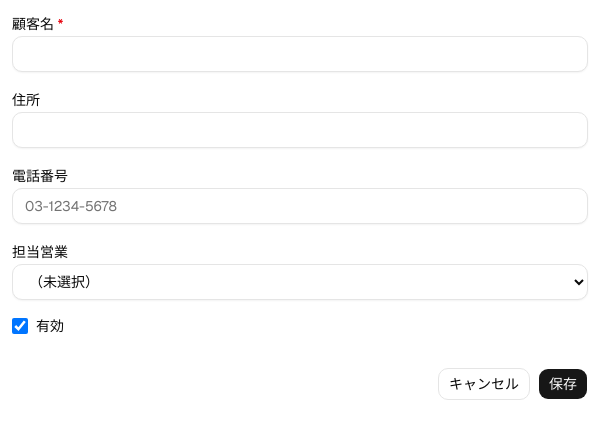
Test: CustomerForm › API の fieldErrors を該当項目に表示する
Type "ABC商事" into the field labelled "顧客名 *" at coordinates (300, 54), box top-left (12, 36), bottom-right (588, 72)
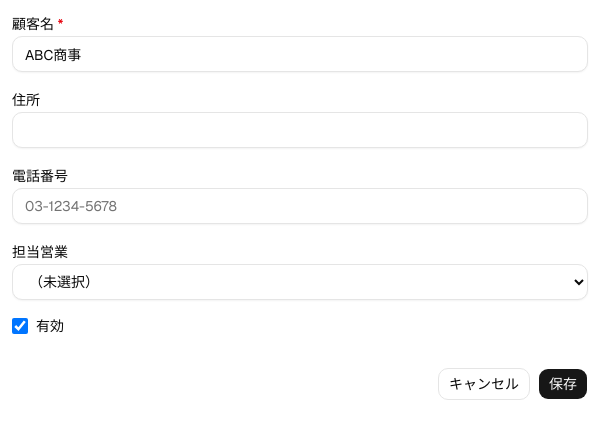
Click the button "保存" at coordinates (563, 384), box top-left (538, 368), bottom-right (588, 400)
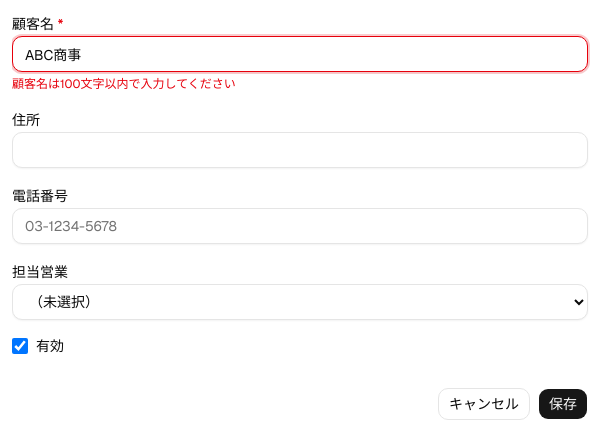
Result: the text "顧客名は100文字以内で入力してください" is shown at top-left (12, 76), bottom-right (236, 92)
